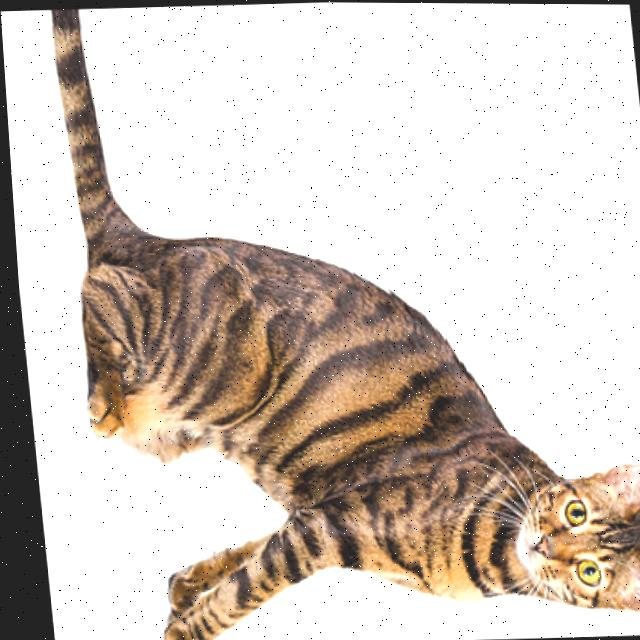Toyger: (42, 0, 640, 640)
